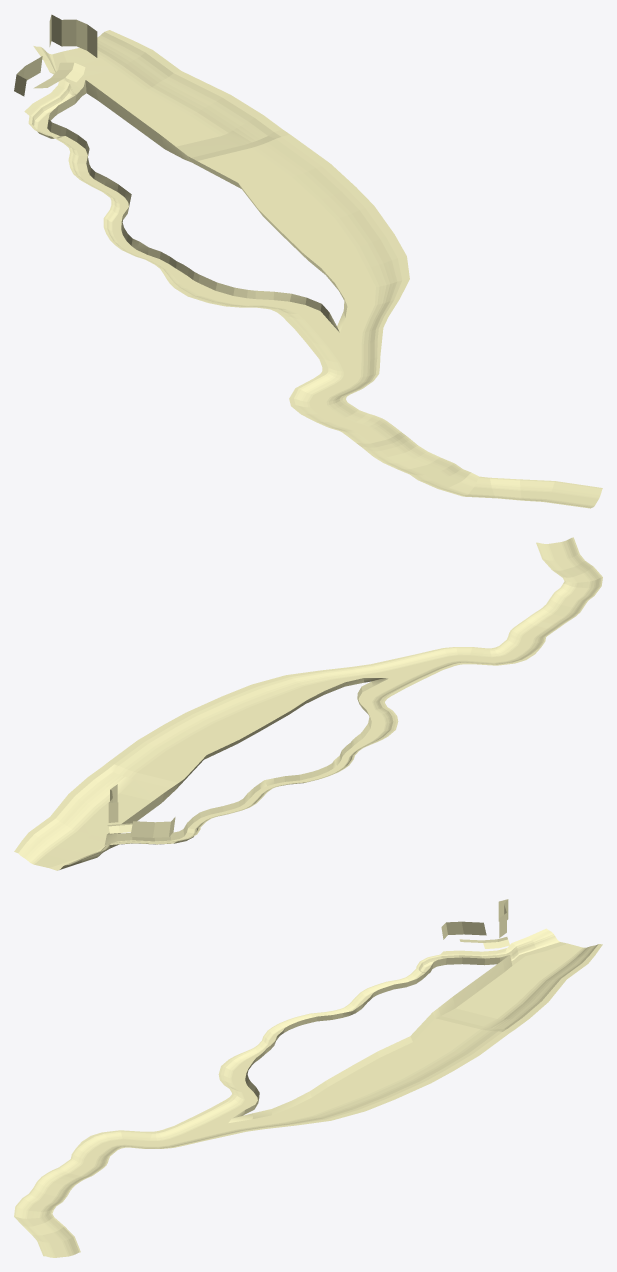
The model's file is Riverbed.FBX.
3 renders of one model, top to bottom at view 1: azimuth 30°, elevation 25°; view 2: azimuth 150°, elevation 25°; view 3: azimuth 330°, elevation 25°, orthographic. The views are drawn at different scales.
Visible parts, largest first — view 1: Riverbed; view 2: Riverbed; view 3: Riverbed.
Boxes of the visible parts, bbox=[...] form: Riverbed: bbox=[14, 14, 602, 508]; Riverbed: bbox=[14, 537, 602, 870]; Riverbed: bbox=[14, 899, 602, 1257].
Bounding box in the file's own units: 148 × 38.84 × 563.
